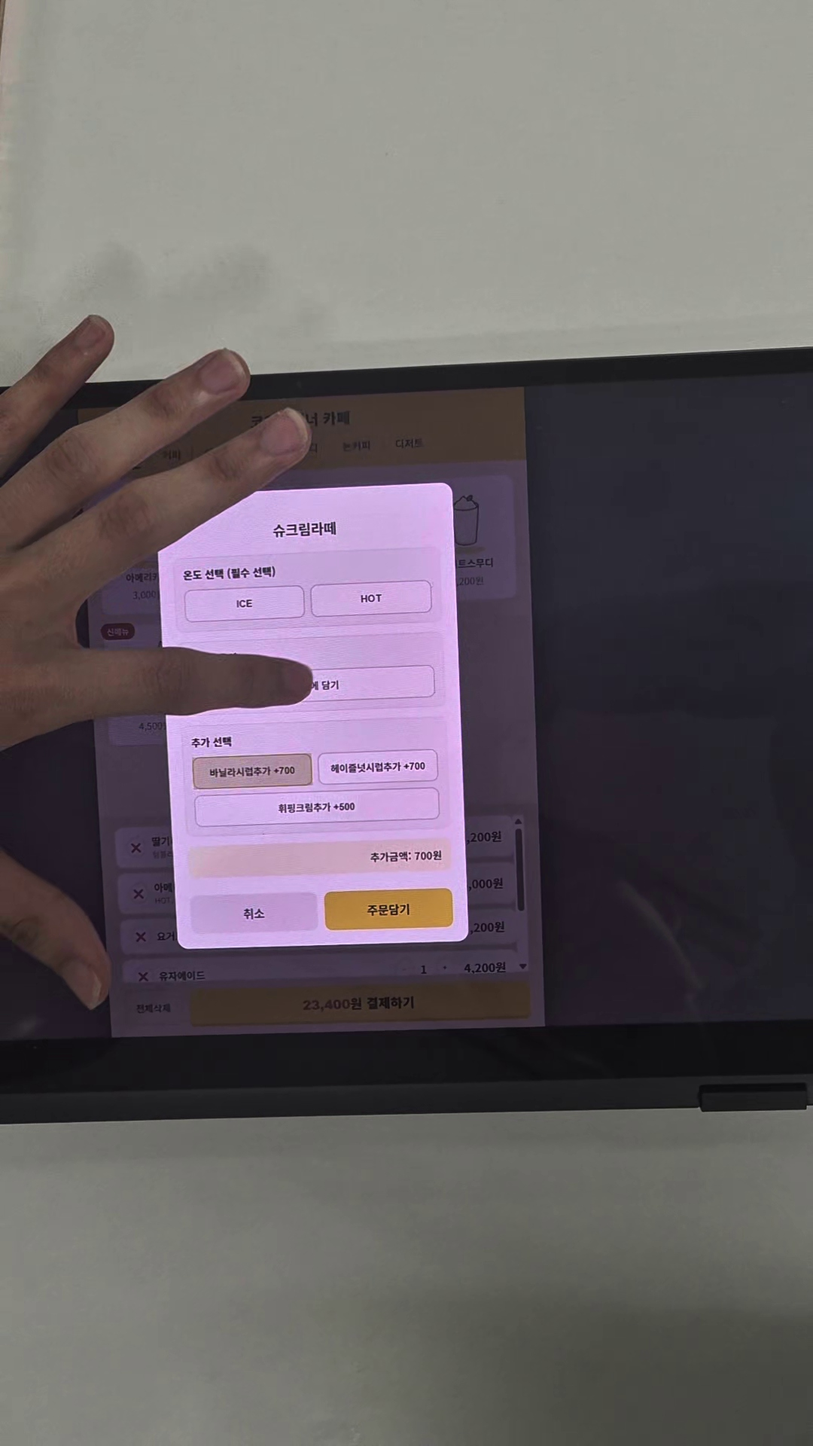action_button: (191, 888, 319, 936), (324, 889, 457, 929)
option_button: (196, 789, 443, 824), (191, 753, 313, 790), (189, 586, 306, 621), (313, 585, 434, 618), (315, 748, 439, 778)
popup_modal: (148, 481, 467, 948)
